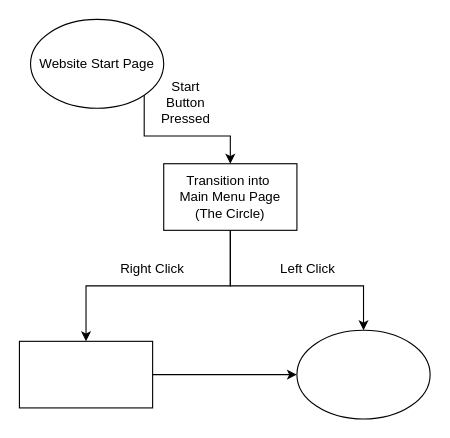
This 450x438 diagram has some shape labels left out. Here are the shapes that lost their labels. From the top down, the centre of each, then its label:
point (85, 374): Zoomed-In Menu (The Slice)
point (363, 374): Specific Page
